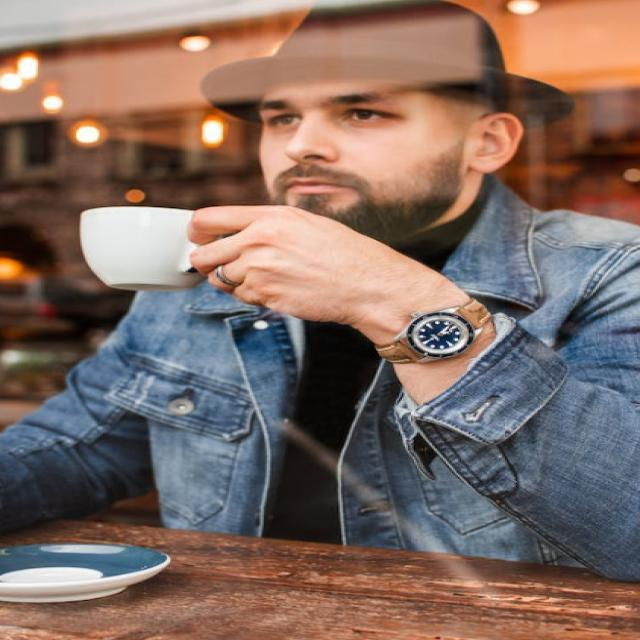Watch: (372, 299, 494, 379)
